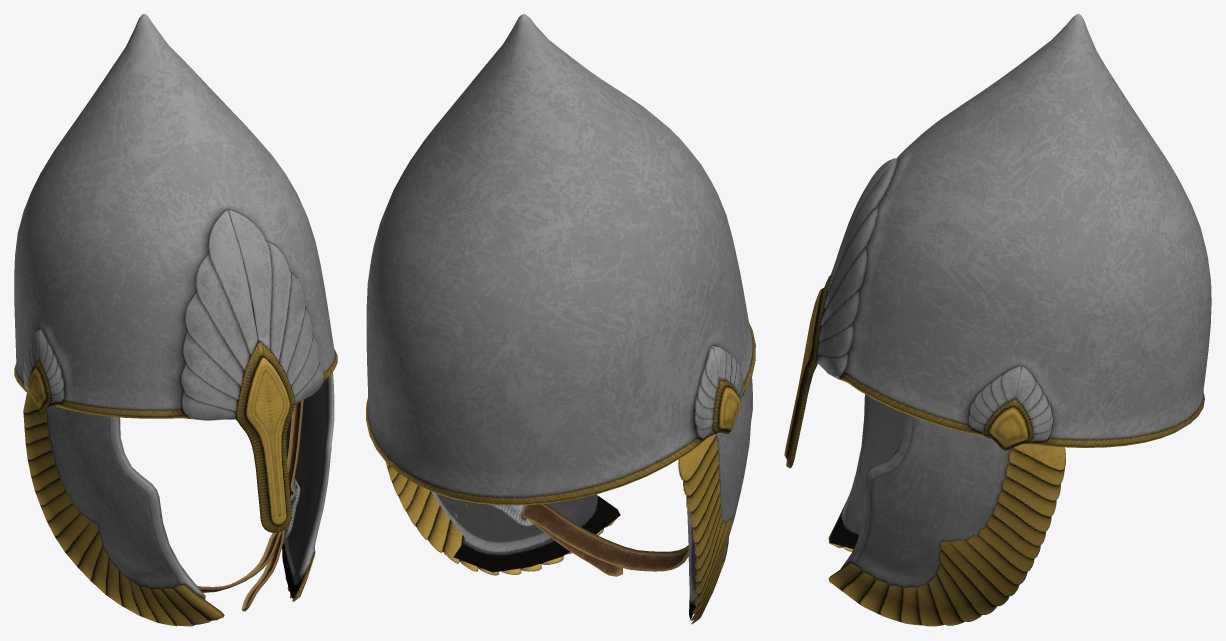
Rendered from pelargirmarine_helmet_5_a.fbx.
The picture shows the model from 3 angles, left to right: view 1: azimuth 30°, elevation 25°; view 2: azimuth 150°, elevation 25°; view 3: azimuth 270°, elevation 25°; orthographic projection. The views are drawn at different scales.
Visible parts, largest first — view 1: pelargirmarine_helmet_5_a.0, pelargirmarine_helmet_5_a.1; view 2: pelargirmarine_helmet_5_a.0, pelargirmarine_helmet_5_a.1; view 3: pelargirmarine_helmet_5_a.0, pelargirmarine_helmet_5_a.1.
Boxes of the visible parts, bbox=[...] form: pelargirmarine_helmet_5_a.0: bbox=[14, 14, 337, 532]; pelargirmarine_helmet_5_a.1: bbox=[23, 372, 334, 626]; pelargirmarine_helmet_5_a.0: bbox=[366, 14, 755, 505]; pelargirmarine_helmet_5_a.1: bbox=[386, 377, 752, 624]; pelargirmarine_helmet_5_a.0: bbox=[784, 14, 1211, 468]; pelargirmarine_helmet_5_a.1: bbox=[828, 394, 1065, 626].
Bounding box in the file's own units: 0.2202 × 0.2701 × 0.4024.
2 materials, 2 textured.
